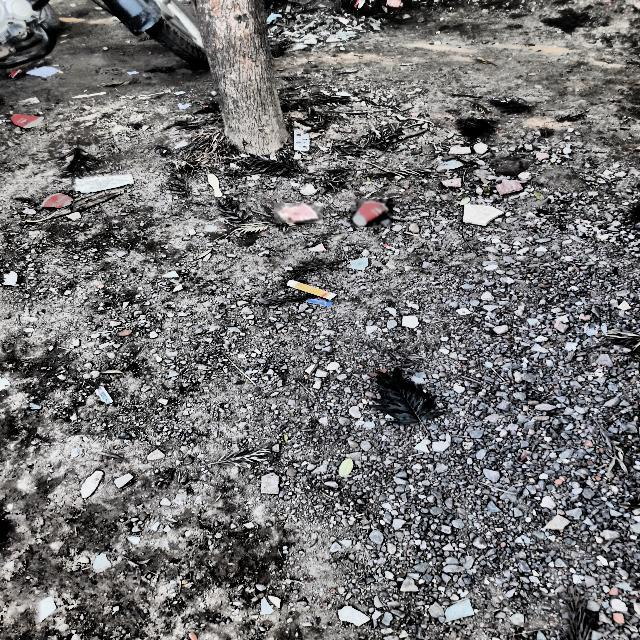anorganik: (352, 199, 392, 227), (275, 204, 323, 223), (5, 115, 47, 130), (42, 190, 73, 210)
